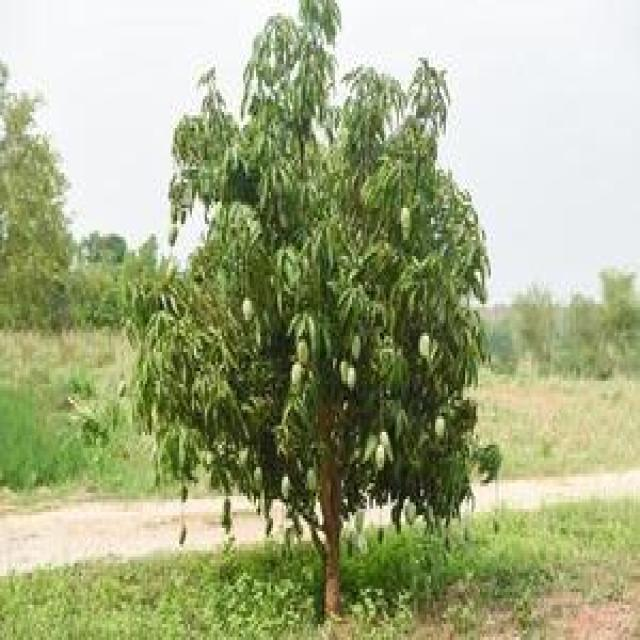Mango-Tree: (103, 2, 509, 590)
